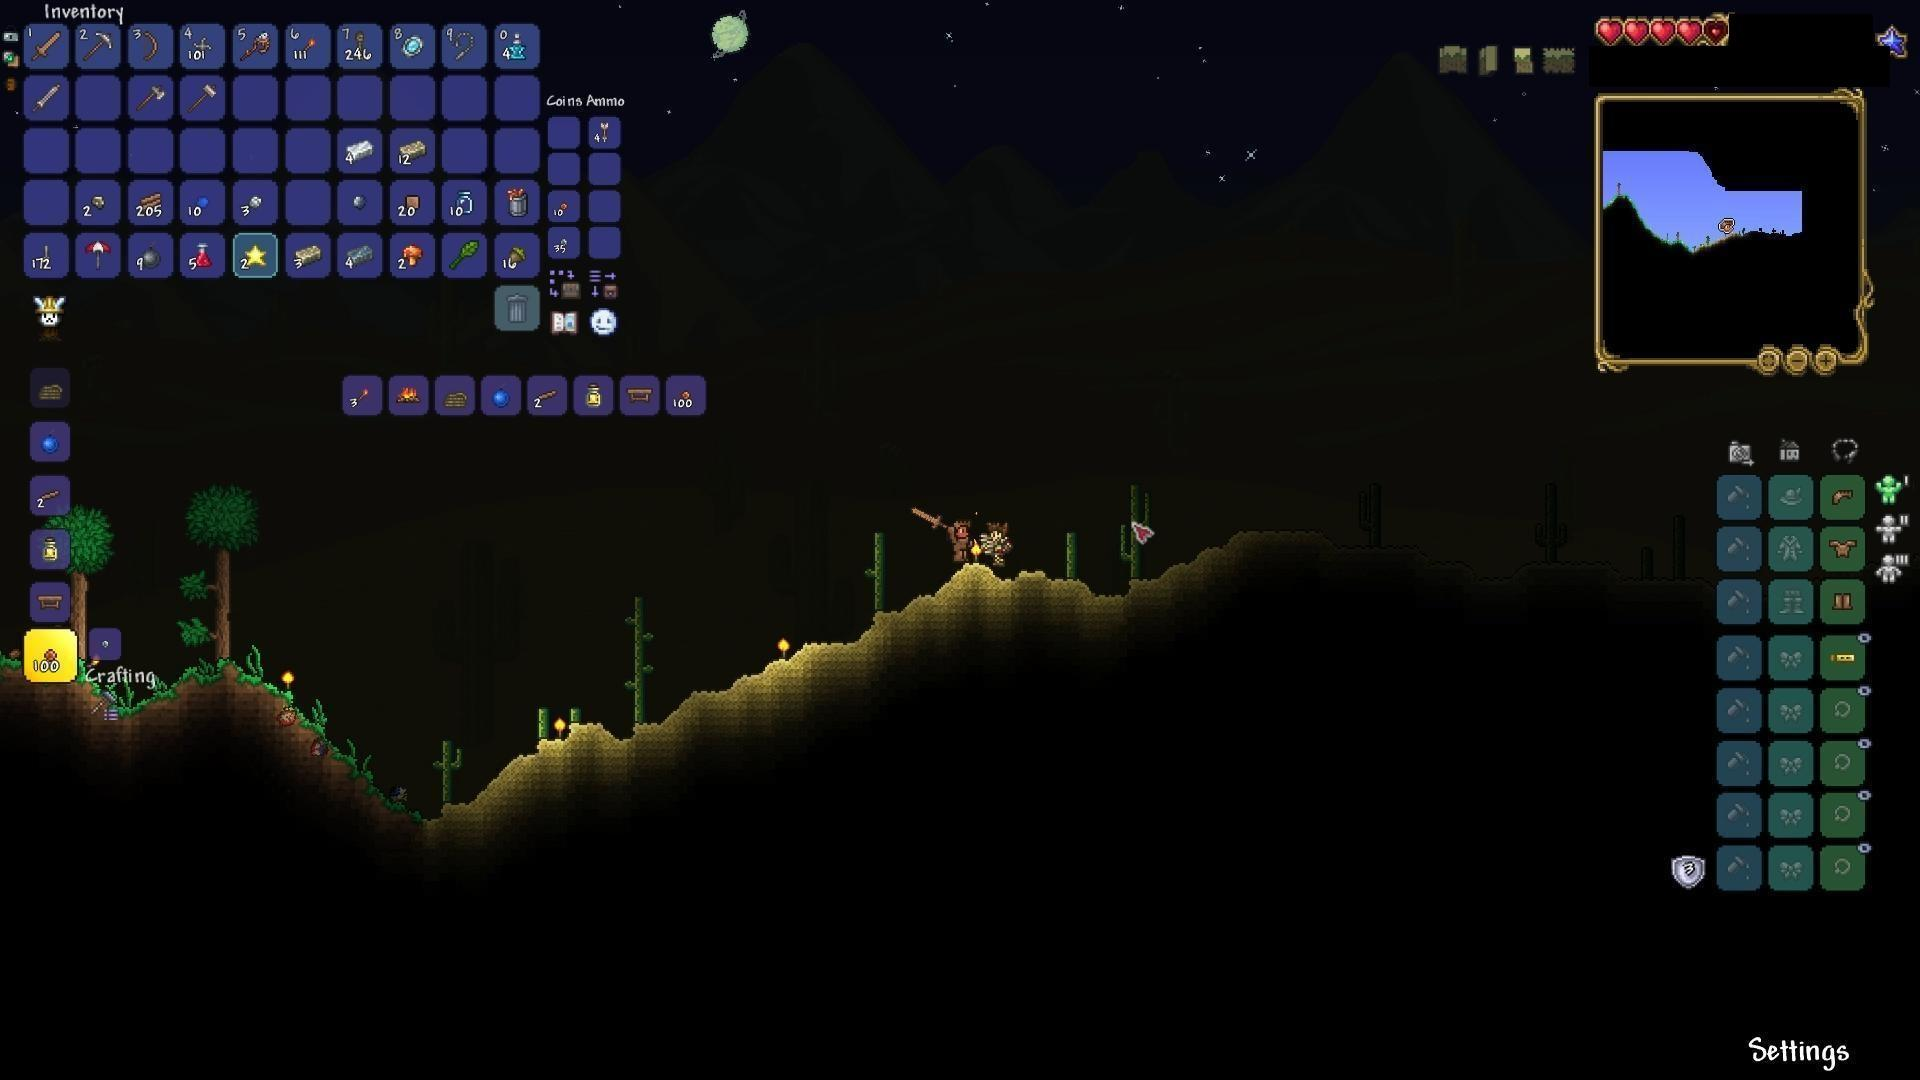dirt: (214, 650, 429, 823), (137, 657, 222, 717)
heart: (1593, 16, 1626, 46), (1676, 15, 1704, 50), (1650, 16, 1676, 49), (1625, 15, 1651, 44)
sand: (438, 720, 605, 822), (746, 617, 886, 694), (980, 563, 1195, 608), (615, 678, 740, 750), (1192, 521, 1299, 567), (894, 567, 977, 618)
tree: (202, 483, 252, 670)
